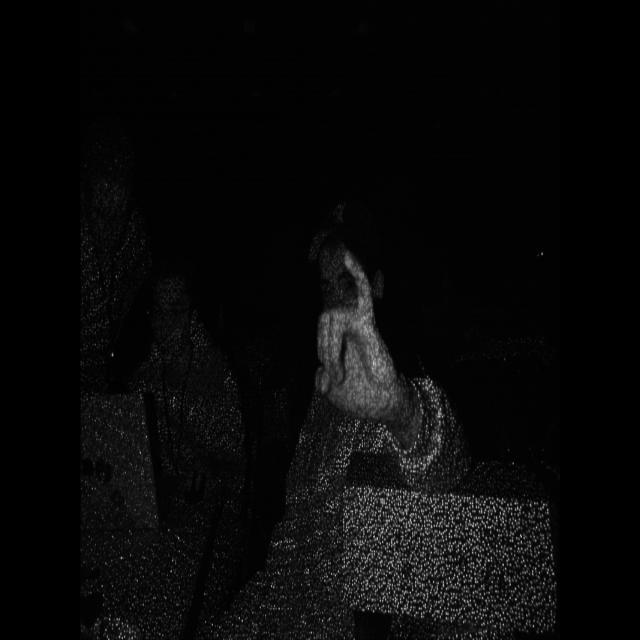D: (309, 250, 410, 448)
